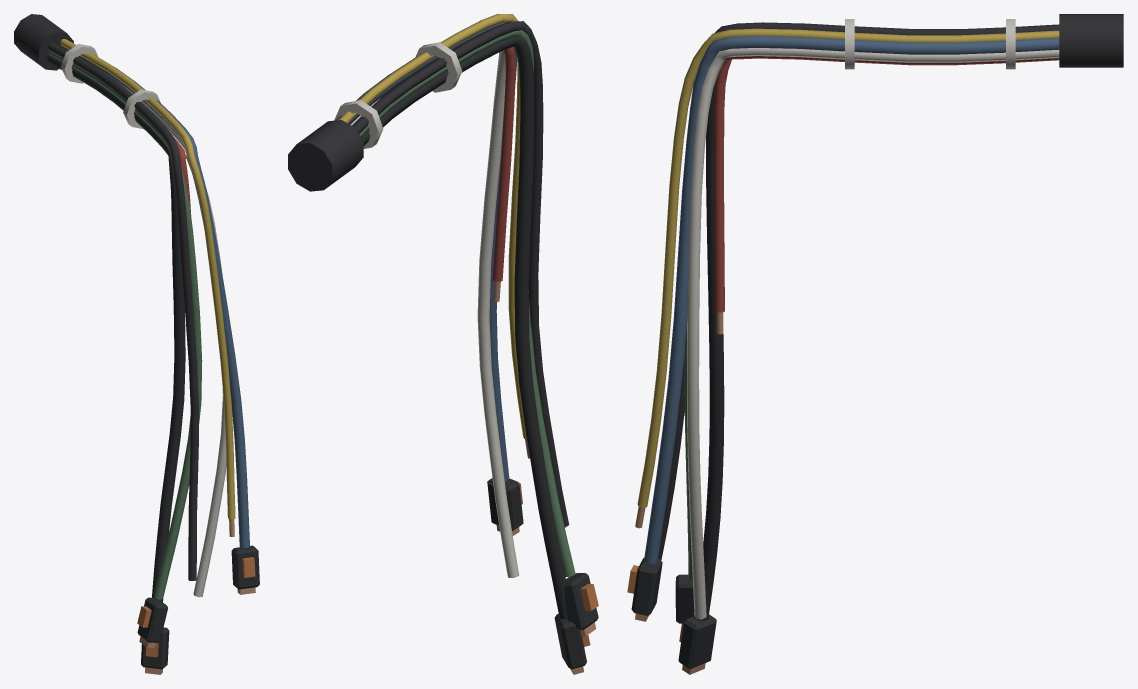
The model's file is astro_exposed_wire_harness_a.fbx.
3 renders of one model, left to right at view 1: azimuth 30°, elevation 25°; view 2: azimuth 150°, elevation 25°; view 3: azimuth 270°, elevation 25°, orthographic. The views are drawn at different scales.
Parts seen in each view (by area): view 1: ExposedWireHarnessA_Body; view 2: ExposedWireHarnessA_Body; view 3: ExposedWireHarnessA_Body.
Part boxes in pixels (bbox=[...]): ExposedWireHarnessA_Body: bbox=[14, 14, 259, 674]; ExposedWireHarnessA_Body: bbox=[288, 14, 598, 674]; ExposedWireHarnessA_Body: bbox=[627, 14, 1123, 674].
Bounding box in the file's own units: 18.62 × 93.42 × 61.62.
